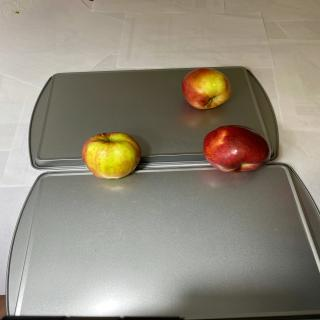Apple: (203, 124, 271, 172), (82, 132, 142, 179), (181, 68, 232, 109)
